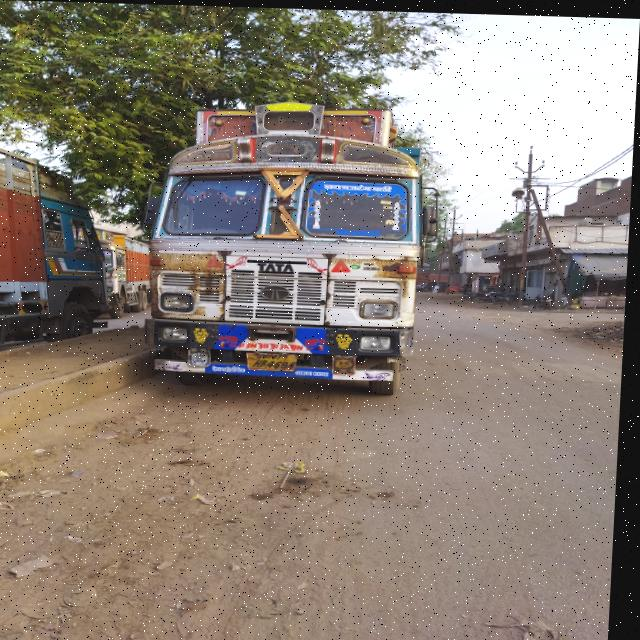plate: (249, 350, 302, 370), (549, 296, 555, 298)
